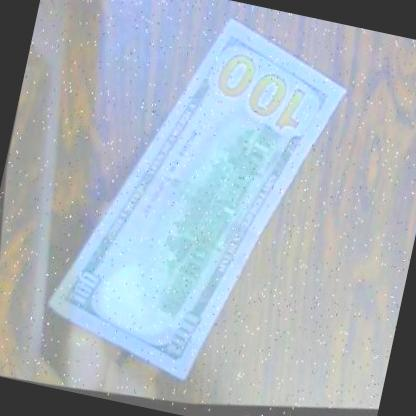one_hundred-back: (0, 0, 395, 416)
